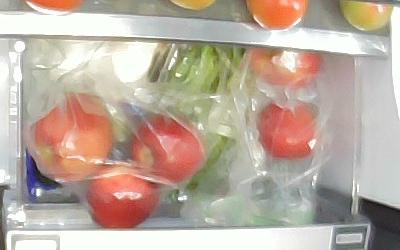apple_vinyl: (33, 93, 113, 181), (132, 116, 204, 184), (88, 163, 159, 230), (256, 99, 316, 160), (249, 47, 324, 86)
